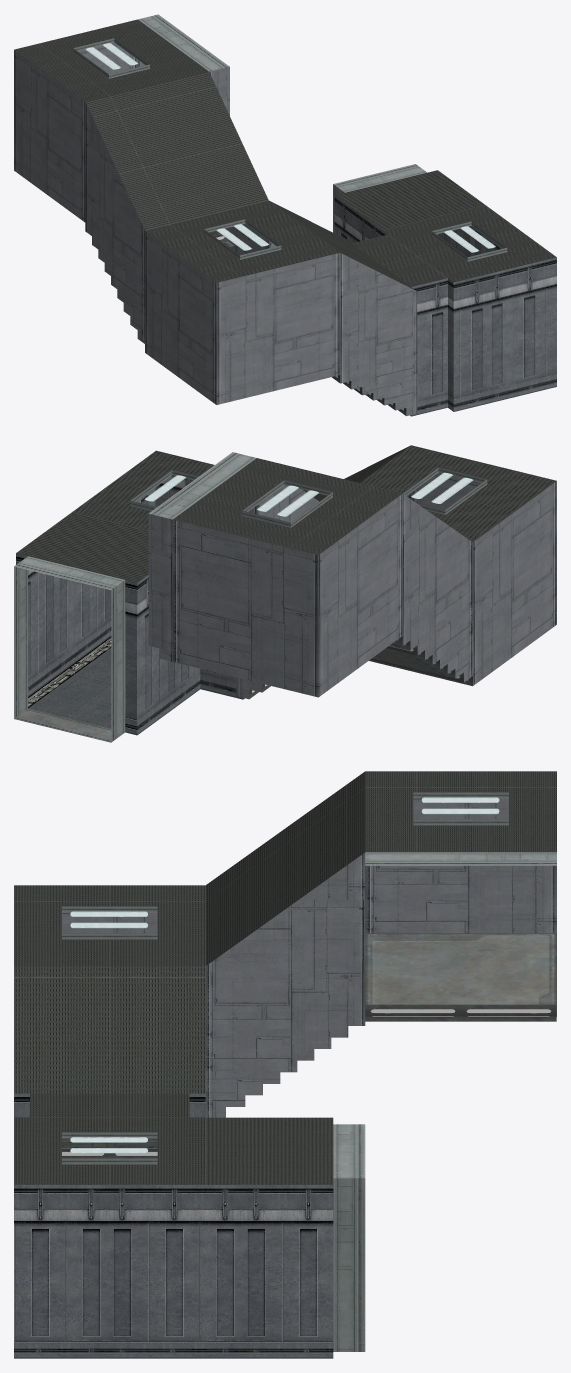
File: mun_all_military_base_guard_house_impl_s01_r2_staircase_mesh_r5.fbx
3 views of the same model, one above another, from view 1: azimuth 30°, elevation 25°; view 2: azimuth 150°, elevation 25°; view 3: azimuth 270°, elevation 25° (orthographic). The views are drawn at different scales.
Visible parts, largest first — view 1: mesh_node; view 2: mesh_node; view 3: mesh_node.
Boxes of the visible parts, left/top/right/bottom form: mesh_node: left=14, top=14, right=556, bottom=416; mesh_node: left=14, top=445, right=556, bottom=742; mesh_node: left=14, top=771, right=556, bottom=1358.
Size of the model in its own units: 8.25 by 6.4 by 8.5.
